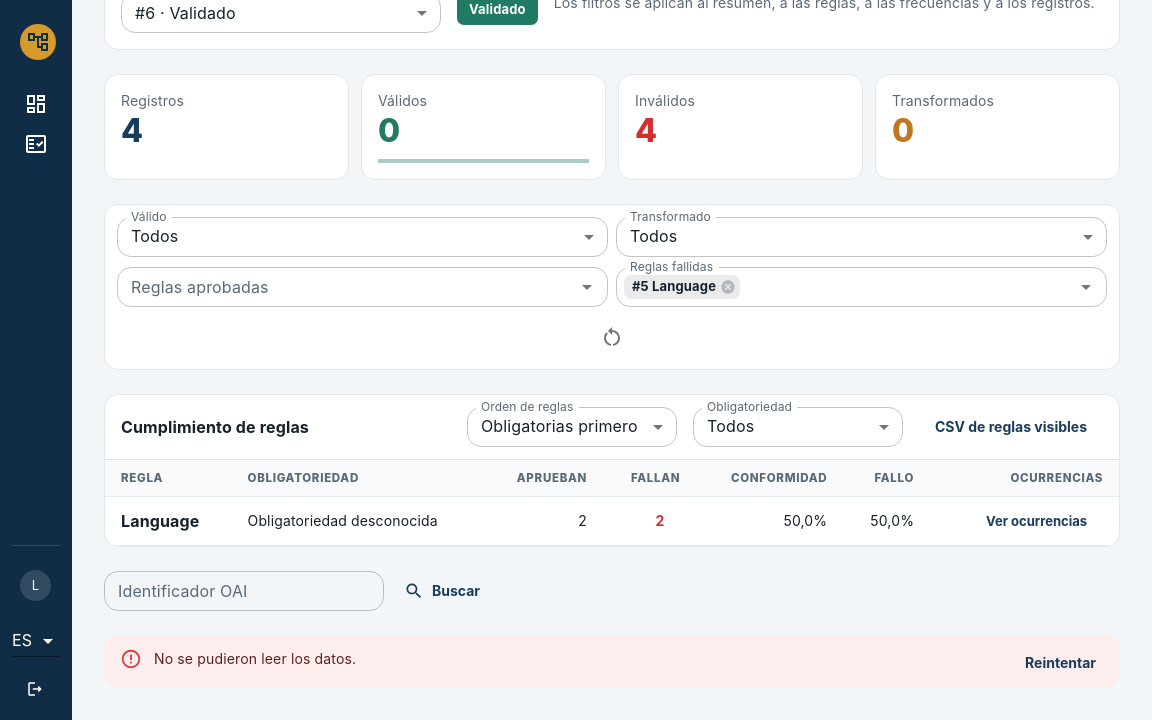
Test: retries a failed records request without losing the report or its filters
The width and height of the screenshot is (1152, 720).
(page scrolled)
Step 1. Click the button "Reintentar" → (1060, 664), box [1009, 646, 1112, 682]
(page scrolled)
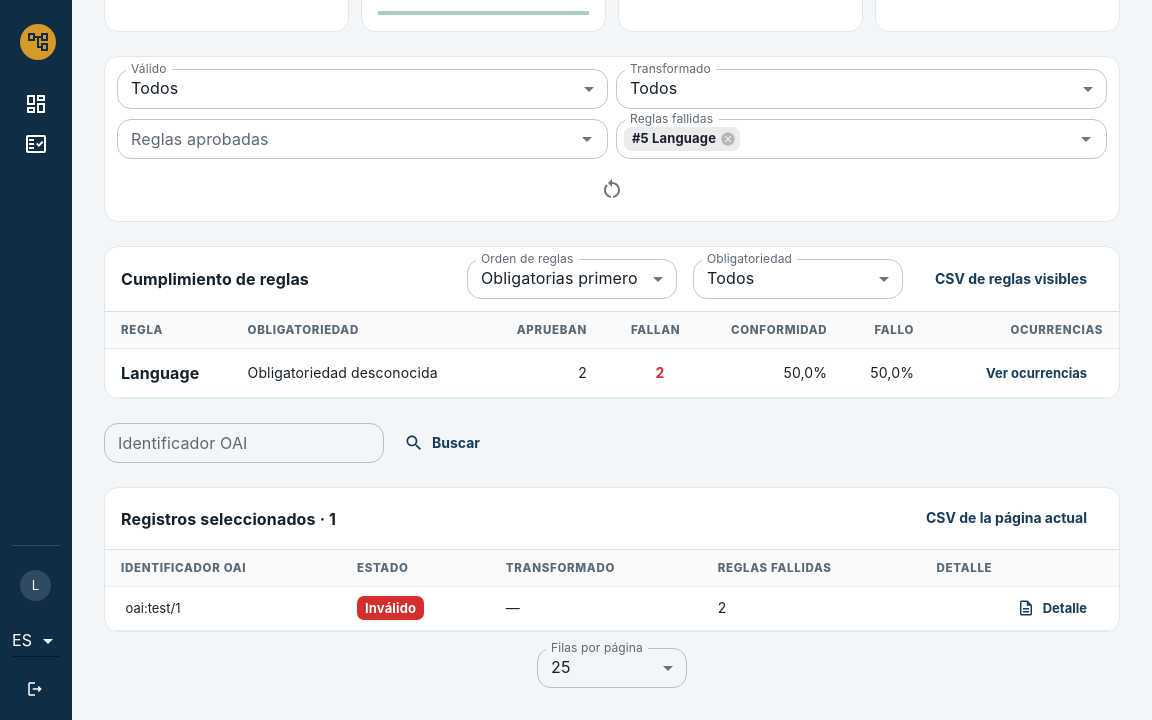
Step 2. Click the button "oai:test/1" → (153, 608), box [121, 597, 185, 620]
(page scrolled)
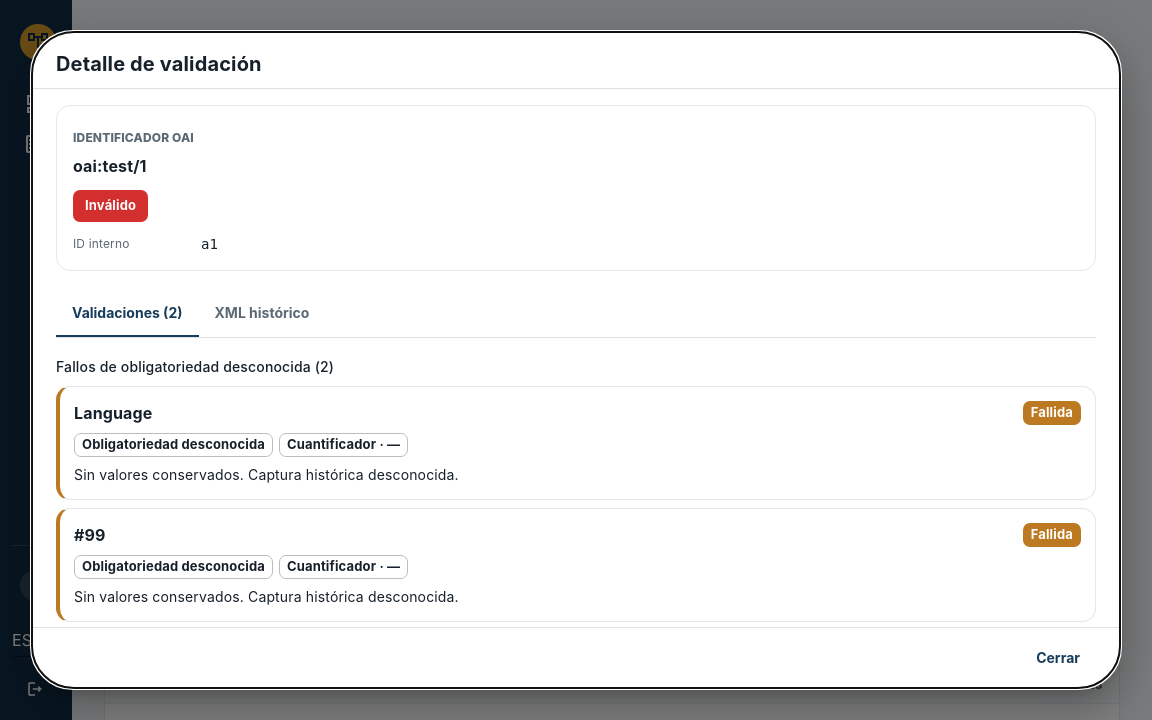
Check: the heading "Fallos de obligatoriedad desconocida (2)" is shown, box [56, 358, 334, 375]
Check: the text "#99" is shown, box [74, 523, 106, 547]
Check: the text "Sin valores conservados. Captura histórica desconocida." is shown 2 times, box [74, 466, 459, 483]; [74, 588, 459, 605]
